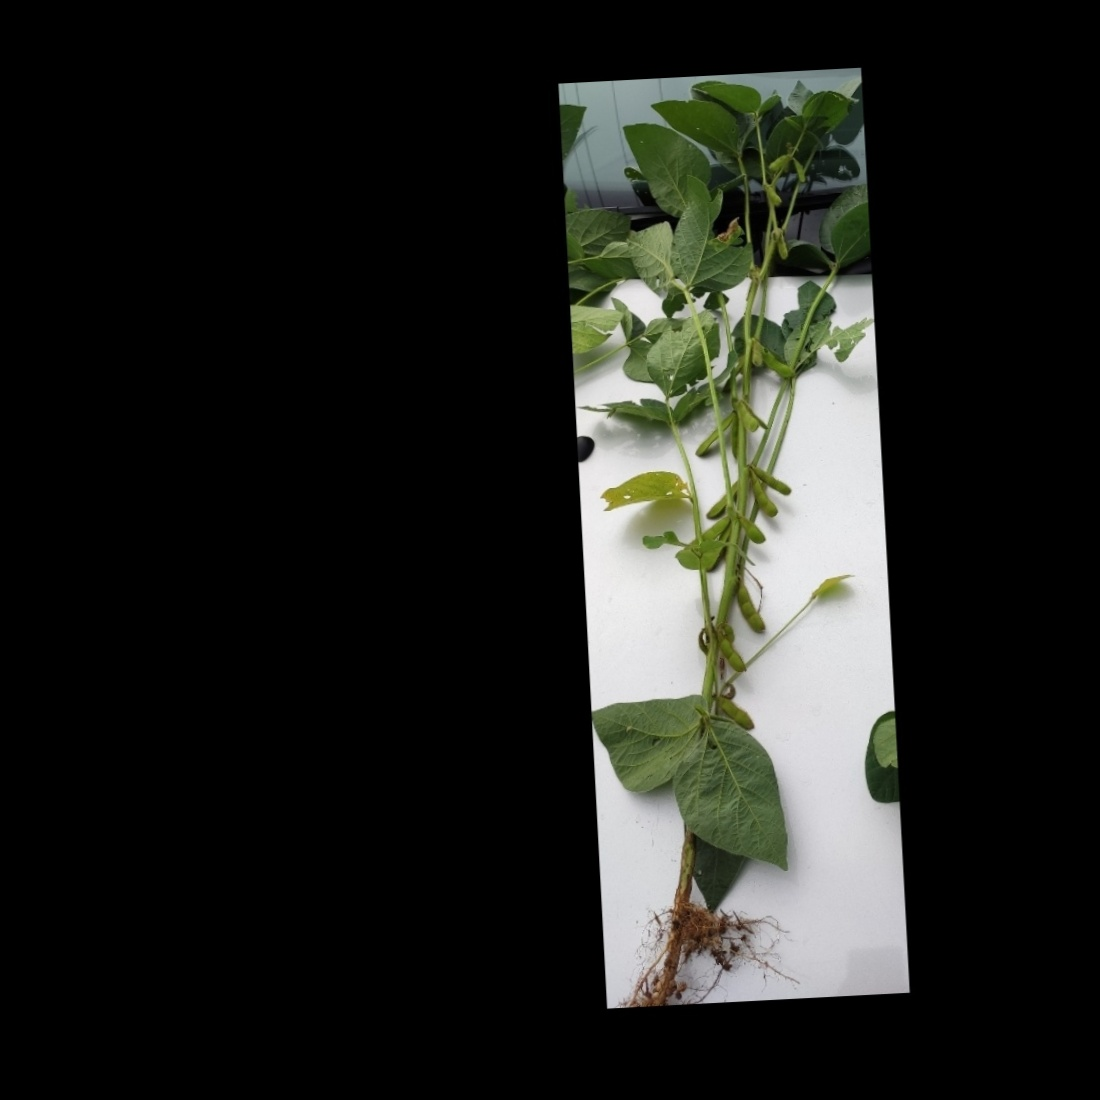pod: (690, 411, 738, 459), (734, 579, 770, 643), (714, 689, 765, 733), (718, 631, 749, 678), (752, 463, 796, 497), (755, 474, 787, 520), (760, 346, 794, 379), (729, 398, 759, 433), (773, 227, 792, 264), (791, 156, 810, 188), (762, 181, 785, 208), (765, 152, 794, 172), (749, 332, 763, 369)
soy: (568, 87, 896, 997)
